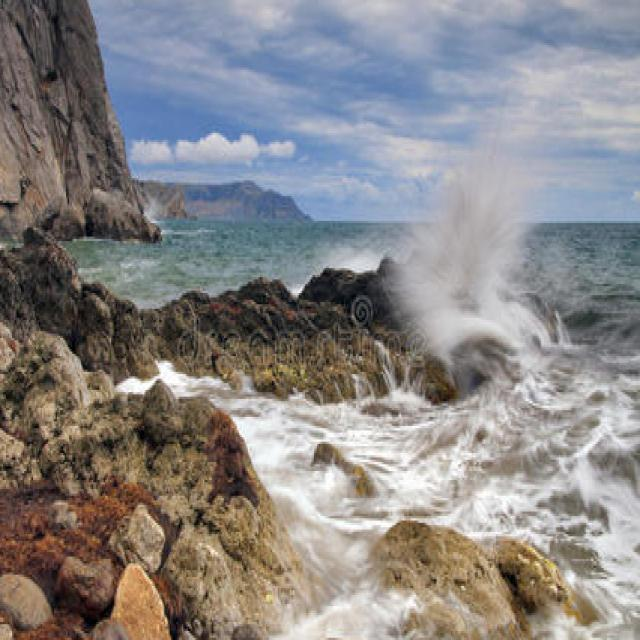reef: (314, 435, 587, 640)
